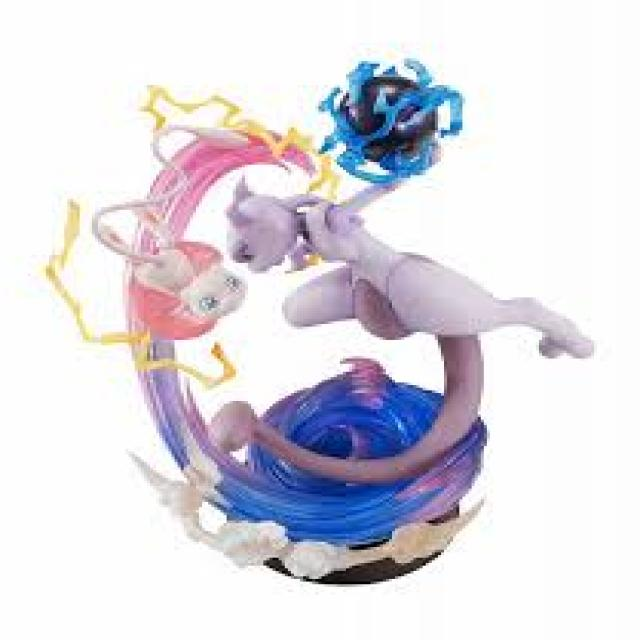Mew: (126, 240, 246, 322)
Mewtwo: (228, 171, 467, 337)
